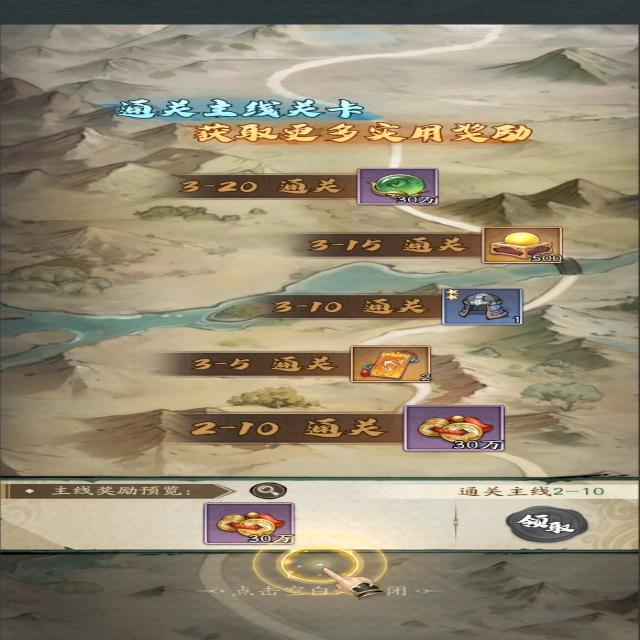hint-guide: (255, 534, 396, 604)
operation-confirm-off: (501, 506, 594, 545)
